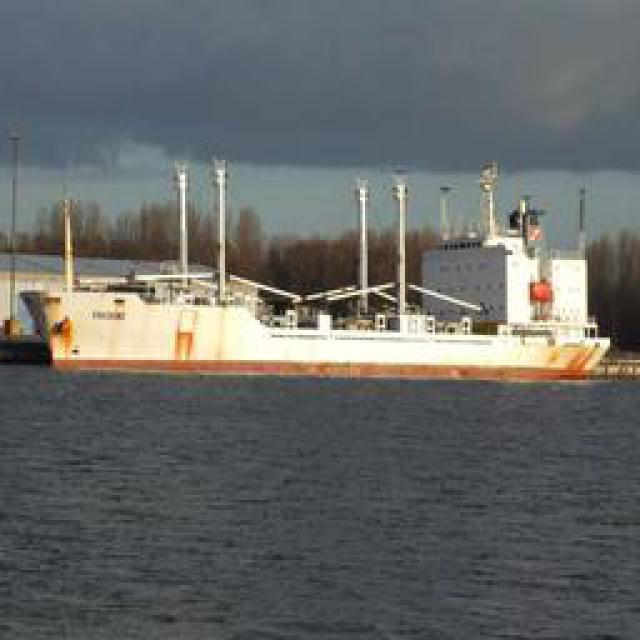Ship: (34, 281, 609, 376)
